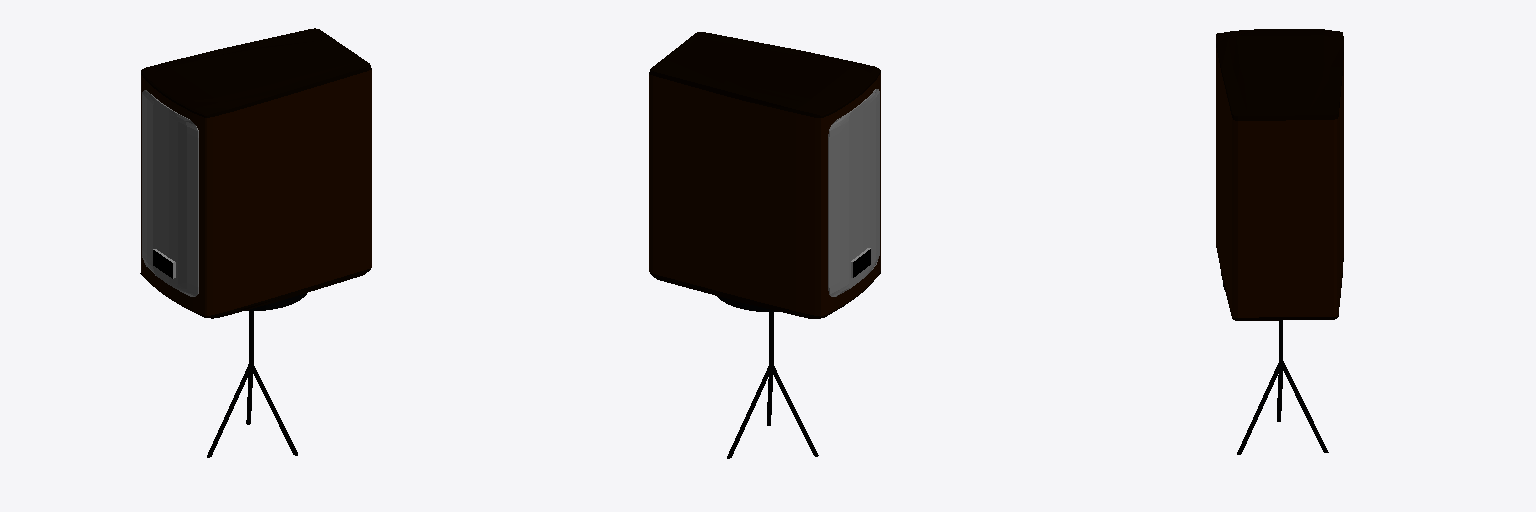
File: speaker_corrected.obj
3 renders of one model, left to right at view 1: azimuth 30°, elevation 25°; view 2: azimuth 150°, elevation 25°; view 3: azimuth 270°, elevation 25°, orthographic.
Bounding box in the file's own units: 0.8518 × 1.63 × 0.5029.